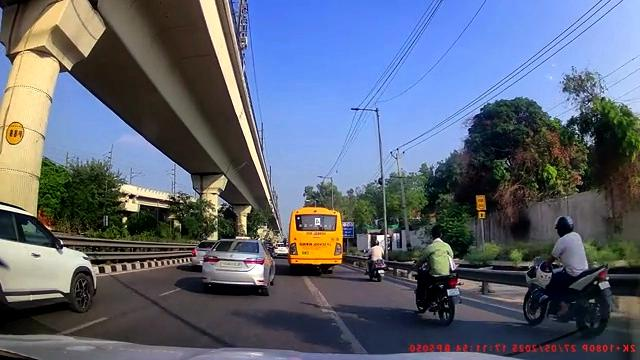motorcycle_with_helmet: (520, 217, 614, 339)
motorcycle_without_helmet: (410, 223, 463, 324)
